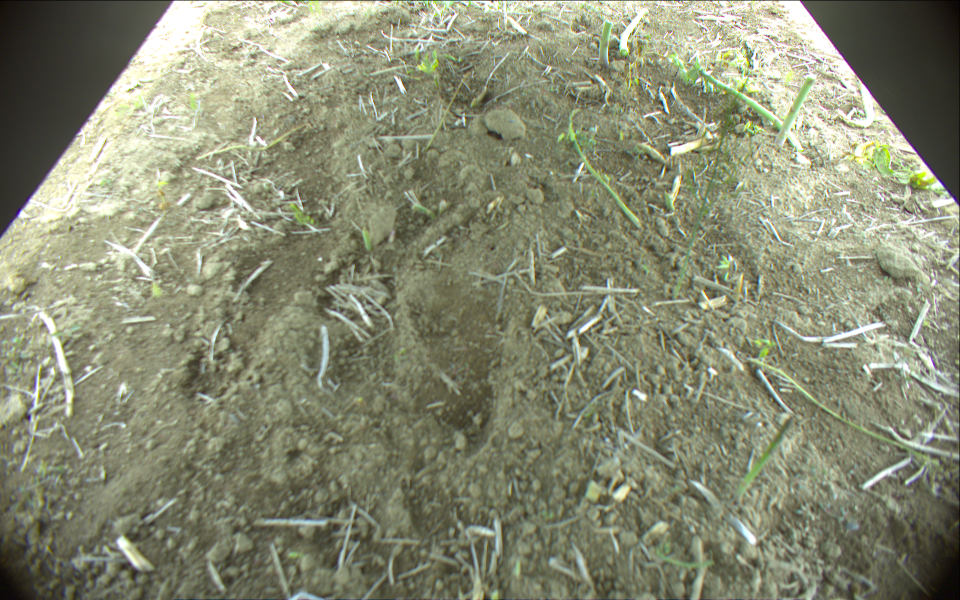aspa: (749, 358, 941, 467), (568, 107, 640, 224), (700, 71, 801, 147), (735, 414, 794, 501), (776, 73, 813, 146), (841, 79, 874, 129), (620, 6, 649, 57), (599, 18, 612, 63)
